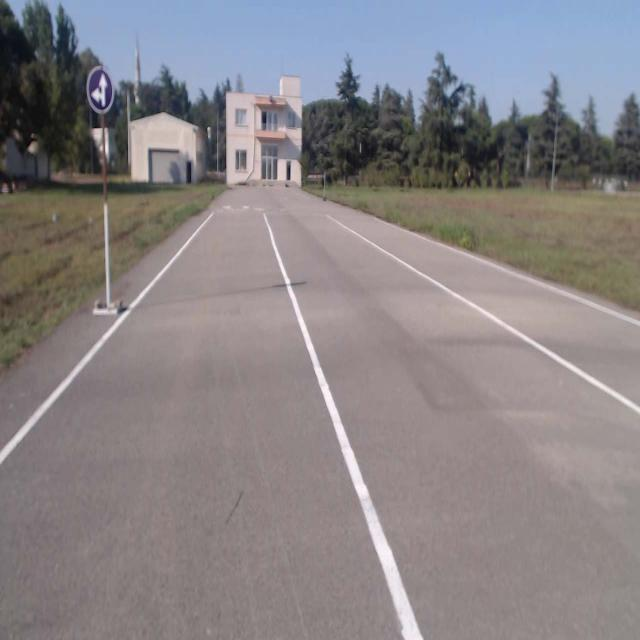ilerisol: (86, 67, 114, 113)
